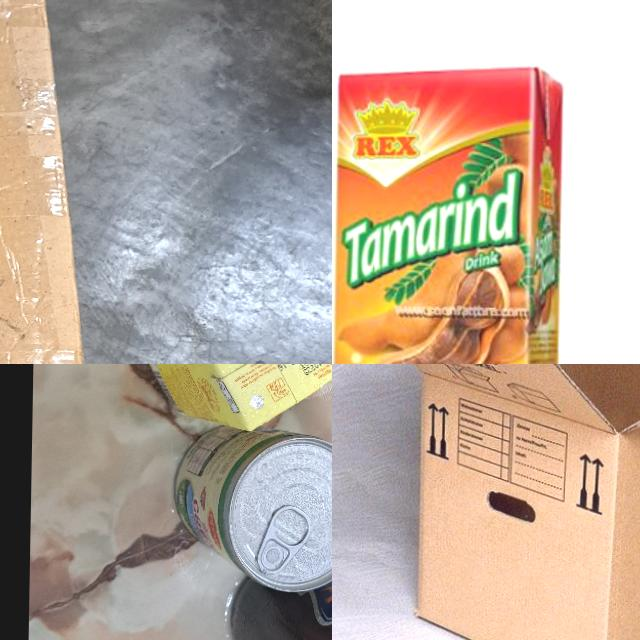aba de lata: (256, 502, 310, 574)
caixinha: (332, 64, 568, 364), (144, 364, 332, 434)
garrafa de vidro: (228, 559, 332, 640)
garrafa plástica: (339, 364, 640, 640)
lata: (168, 421, 332, 591)
papelão: (0, 0, 95, 364)
